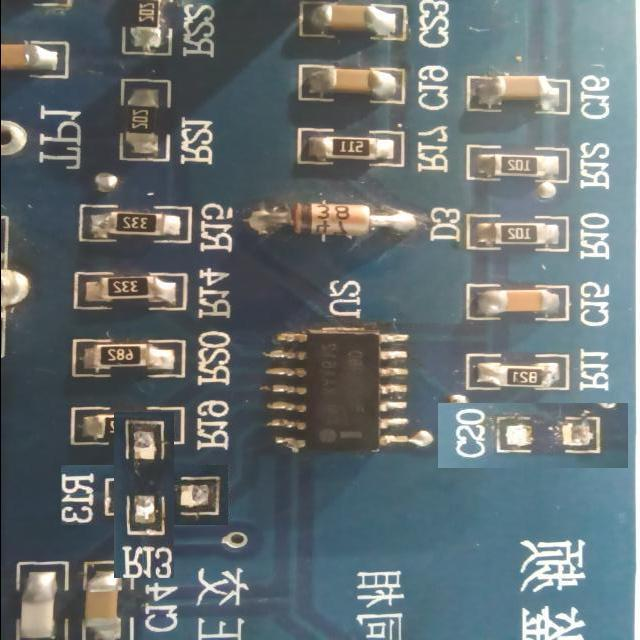miss_welding: (88, 438, 201, 552), (438, 404, 628, 469)
